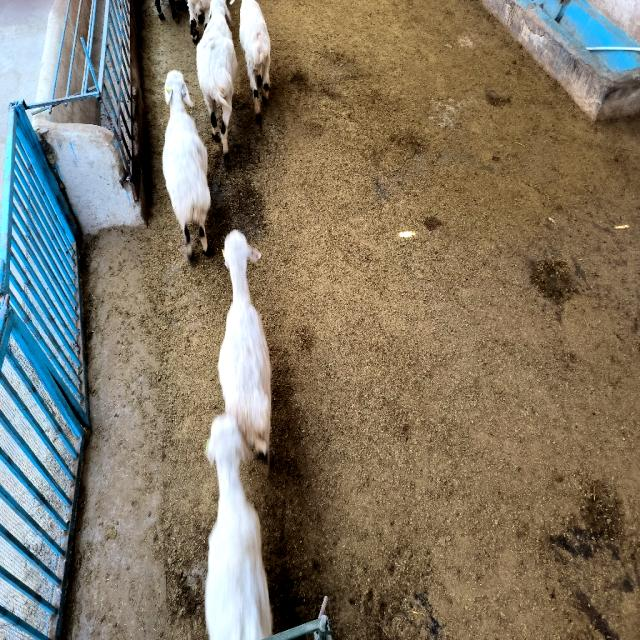sheep: (205, 415, 272, 638), (219, 230, 271, 459), (162, 70, 211, 261), (196, 0, 238, 162), (239, 0, 270, 121)
